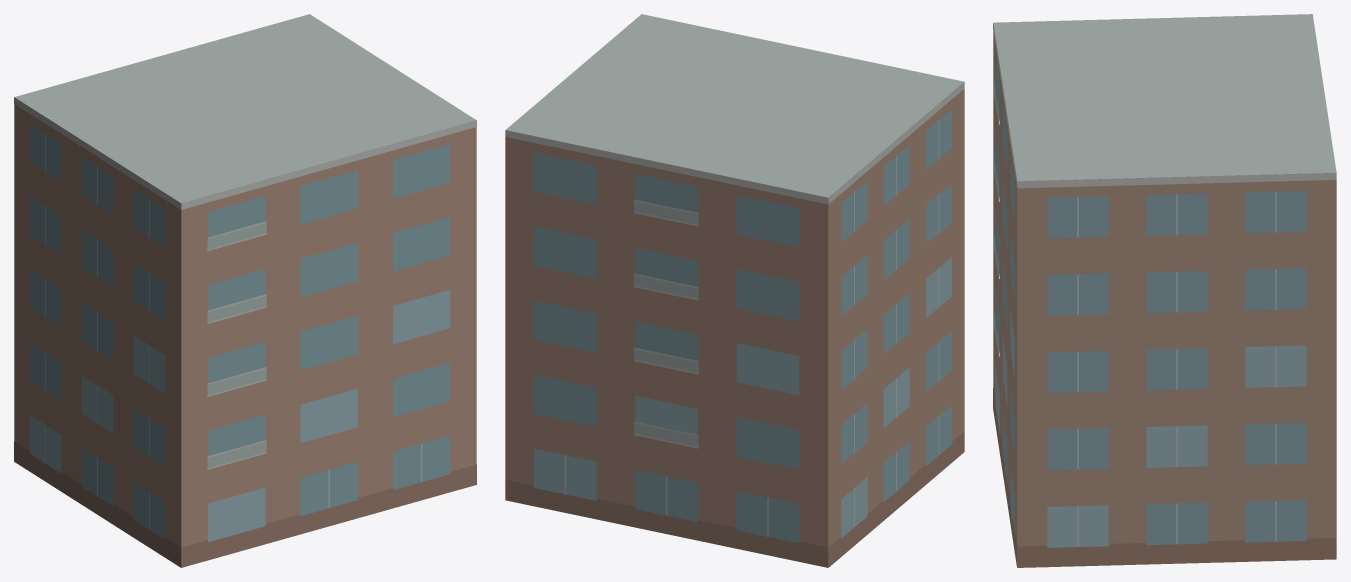
File: survey-upis-32873215.glb
3 renders of one model, left to right at view 1: azimuth 30°, elevation 25°; view 2: azimuth 150°, elevation 25°; view 3: azimuth 270°, elevation 25°, orthographic. The views are drawn at different scales.
Visible parts, largest first — view 1: survey-upis-32873215.tmp; view 2: survey-upis-32873215.tmp; view 3: survey-upis-32873215.tmp.
Part boxes in pixels (box(x1,y1,x2,y2)): survey-upis-32873215.tmp: box(14, 14, 476, 567); survey-upis-32873215.tmp: box(505, 14, 964, 567); survey-upis-32873215.tmp: box(993, 14, 1336, 567).
Bounding box in the file's own units: 12.35 × 13.3 × 10.72.
